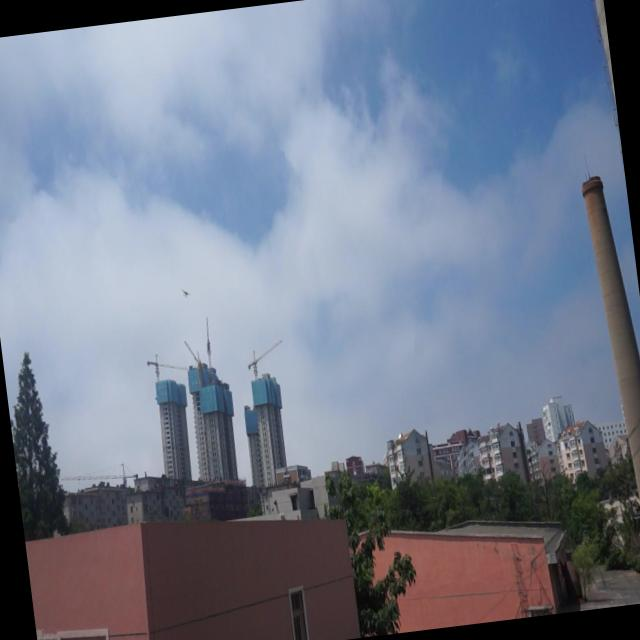drone: (178, 288, 191, 300)
